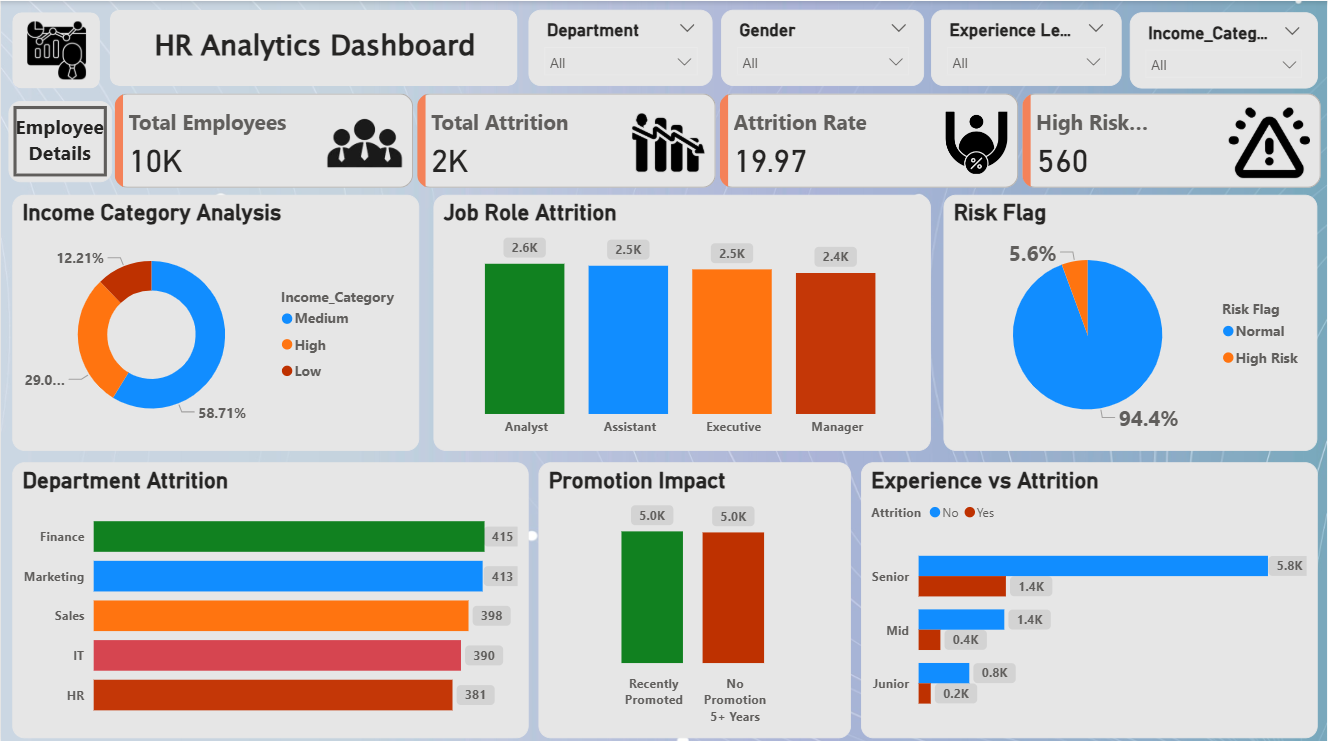

This screenshot's page, from the dashboard's own definition file:
{"tool":"powerbi","page":{"name":"DashBoard","canvas":[1280,720],"ordinal":0},"visuals":[{"type":"shape","box":[11,11,84.6,73.6],"z":0},{"type":"image","box":[20.8,13.5,66.2,68.7],"z":1000},{"type":"shape","box":[105.4,8.6,393.6,73.6],"z":2000},{"type":"cardVisual","fields":{"Data":["Table1.Total Employees","Table1.Total Attrition","Table1.Attrition Rate","Table1.High Risk Employees"]},"box":[105.4,84.6,1174.6,101.8],"z":3000},{"type":"textbox","box":[132.4,18.4,340.8,53.9],"z":4000},{"type":"clusteredBarChart","title":"Department Attrition","fields":{"Category":["Table1.Department"],"Y":["Table1.Total Attrition"]},"box":[11,444.6,498.1,266.2],"z":5000},{"type":"donutChart","title":"Income Category Analysis","fields":{"Category":["Table1.Income_Category"],"Y":["CountNonNull(Table1.Employee_ID)"]},"box":[11,186.6,392.5,247],"z":6000},{"type":"clusteredBarChart","title":"Experience vs Attrition","fields":{"Y":["CountNonNull(Table1.Employee_ID)"],"Series":["Table1.Attrition"],"Category":["Table1.Experience_Level"]},"box":[830.2,444.6,440.5,266.2],"z":7000},{"type":"slicer","title":"Experience vs Attrition","fields":{"Values":["Table1.Department"]},"box":[508.8,8.6,177.8,73.6],"z":8000},{"type":"slicer","title":"Experience vs Attrition","fields":{"Values":["Table1.Gender"]},"box":[695.2,8.6,196.2,73.6],"z":9000},{"type":"slicer","title":"Experience vs Attrition","fields":{"Values":["Table1.Experience_Level"]},"box":[897.5,8.6,183.9,73.6],"z":10000},{"type":"slicer","title":"Experience vs Attrition","fields":{"Values":["Table1.Income_Category"]},"box":[1090,11,181.5,73.6],"z":11000},{"type":"columnChart","title":"Promotion Impact","fields":{"Y":["CountNonNull(Table1.Attrition)"],"Category":["Table1.Promotion_Status"]},"box":[518.7,444.6,301.9,266.2],"z":12000},{"type":"pieChart","title":"Risk Flag","fields":{"Y":["CountNonNull(Table1.Attrition)"],"Category":["Table1.Risk_Flag"]},"box":[909.8,186.6,360.9,247],"z":13000},{"type":"columnChart","title":"Job Role Attrition","fields":{"Category":["Table1.Job_Role"],"Y":["CountNonNull(Table1.Attrition)"]},"box":[417.2,186.6,480.3,247],"z":14000},{"type":"actionButton","box":[6.9,96.1,100.2,78.2],"z":15000},{"type":"textbox","box":[6.9,104.3,98.8,63.1],"z":16000}]}

Visuals, with their boxes in screenshot pixels (x1, y1, x2, y2), scaled from the page's 1280x720 canvas onto the 1328x741 screenshot:
shape: (11, 11, 99, 87)
image: (22, 14, 90, 85)
shape: (109, 9, 518, 85)
cardVisual - Table1.Total Employees x Table1.Total Attrition: (109, 87, 1327, 192)
textbox: (137, 19, 491, 74)
"Department Attrition" clusteredBarChart: (11, 458, 528, 732)
"Income Category Analysis" donutChart: (11, 192, 419, 446)
"Experience vs Attrition" clusteredBarChart: (861, 458, 1318, 732)
"Experience vs Attrition" slicer: (528, 9, 712, 85)
"Experience vs Attrition" slicer: (721, 9, 925, 85)
"Experience vs Attrition" slicer: (931, 9, 1122, 85)
"Experience vs Attrition" slicer: (1131, 11, 1319, 87)
"Promotion Impact" columnChart: (538, 458, 851, 732)
"Risk Flag" pieChart: (944, 192, 1318, 446)
"Job Role Attrition" columnChart: (433, 192, 931, 446)
actionButton: (7, 99, 111, 179)
textbox: (7, 107, 110, 172)
